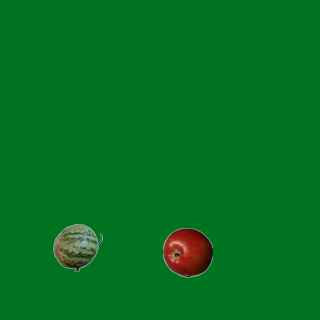Apple Braeburn: (162, 227, 212, 277)
Watermelon: (52, 222, 102, 272)
